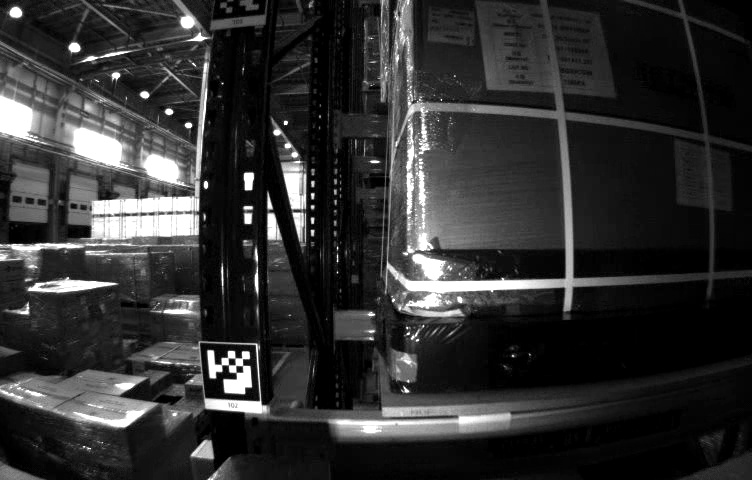True Barcode: (427, 4, 475, 50)
